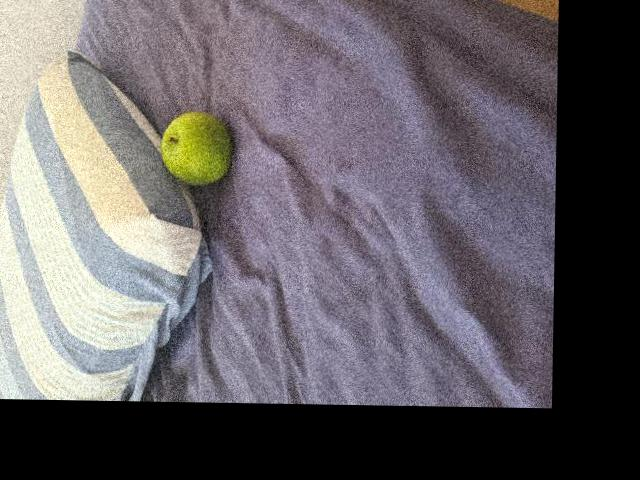apple: (160, 116, 231, 184)
